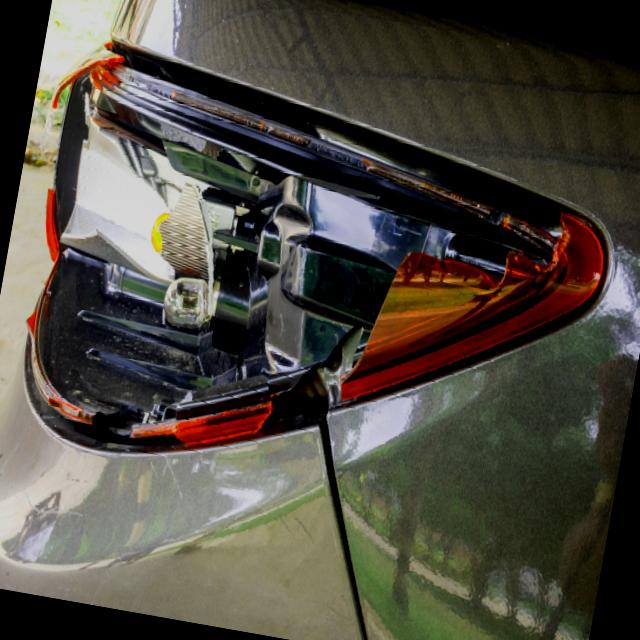Phare abime: (2, 39, 620, 524)
